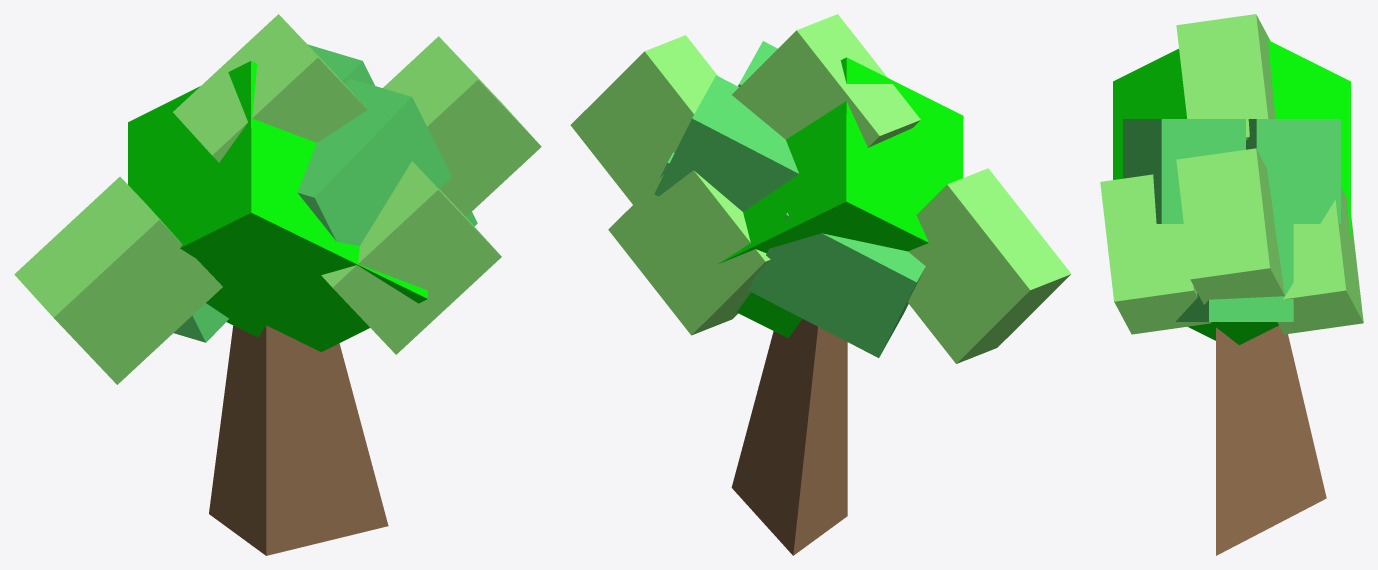
The model's file is tree2.glb.
3 views of the same model, side by side, from view 1: azimuth 30°, elevation 25°; view 2: azimuth 150°, elevation 25°; view 3: azimuth 270°, elevation 25° (orthographic). The views are drawn at different scales.
Visible parts, largest first — view 1: main_foliage, tree_trunk, secondary_foliage_corner.004, secondary_foliage_corner, secondary_foliage_center.002, secondary_foliage_corner.002, secondary_foliage_corner.001, secondary_foliage_center, secondary_foliage_center.003; view 2: main_foliage, tree_trunk, secondary_foliage_corner.004, secondary_foliage_corner.003, secondary_foliage_center, secondary_foliage_corner.001, secondary_foliage_corner.002, secondary_foliage_center.003; view 3: tree_trunk, secondary_foliage_corner.001, main_foliage, secondary_foliage_corner, secondary_foliage_corner.002, secondary_foliage_center.003, secondary_foliage_corner.003, secondary_foliage_center.002, secondary_foliage_center.001.
Boxes of the visible parts, x1,y1,x2,y2 form: main_foliage: (128,61,427,351); tree_trunk: (209,325,388,555); secondary_foliage_corner.004: (14,176,222,384); secondary_foliage_corner: (321,161,501,354); secondary_foliage_center.002: (297,78,451,245); secondary_foliage_corner.002: (173,14,367,162); secondary_foliage_corner.001: (383,36,541,216); secondary_foliage_center: (174,303,228,342); secondary_foliage_center.003: (307,44,374,85); main_foliage: (718,57,963,337); tree_trunk: (731,319,847,555); secondary_foliage_corner.004: (907,168,1070,363); secondary_foliage_corner.003: (608,170,770,335); secondary_foliage_center: (748,212,925,357); secondary_foliage_corner.001: (570,35,717,204); secondary_foliage_corner.002: (732,14,920,147); secondary_foliage_center.003: (654,75,798,211); tree_trunk: (1216,325,1326,555); secondary_foliage_corner.001: (1176,148,1284,304); main_foliage: (1113,40,1350,345); secondary_foliage_corner: (1100,174,1211,334); secondary_foliage_corner.002: (1176,14,1275,140); secondary_foliage_center.003: (1246,119,1340,223); secondary_foliage_corner.003: (1277,187,1363,334); secondary_foliage_center.002: (1123,119,1245,223); secondary_foliage_center.001: (1175,217,1293,321).
Bounding box in the file's own units: 11.42 × 11.59 × 5.54.
